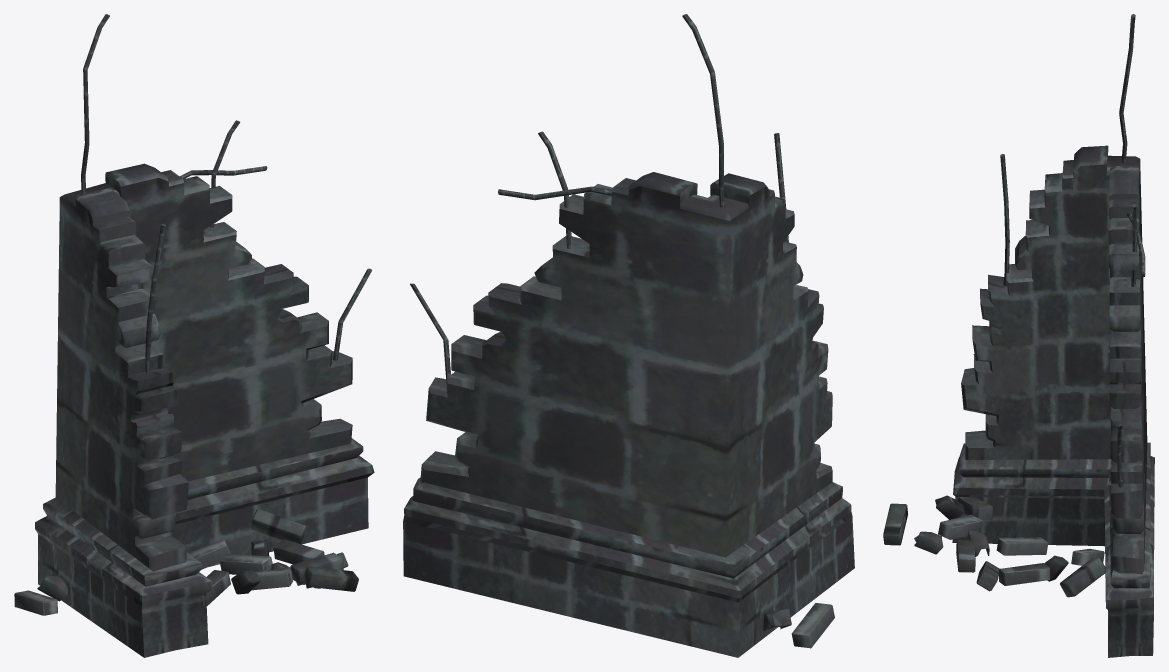
The model's file is ruiny2.FBX.
3 views of the same model, side by side, from view 1: azimuth 30°, elevation 25°; view 2: azimuth 150°, elevation 25°; view 3: azimuth 270°, elevation 25° (orthographic). The views are drawn at different scales.
Visible parts, largest first — view 1: Object001; view 2: Object001; view 3: Object001.
Part boxes in pixels (x1,y1,x2,y2): Object001: (14,14,374,657); Object001: (403,14,854,657); Object001: (883,14,1154,657).
Bounding box in the file's own units: 10.39 × 7.2 × 15.5.
Materials: 1 (1 with a texture image).
